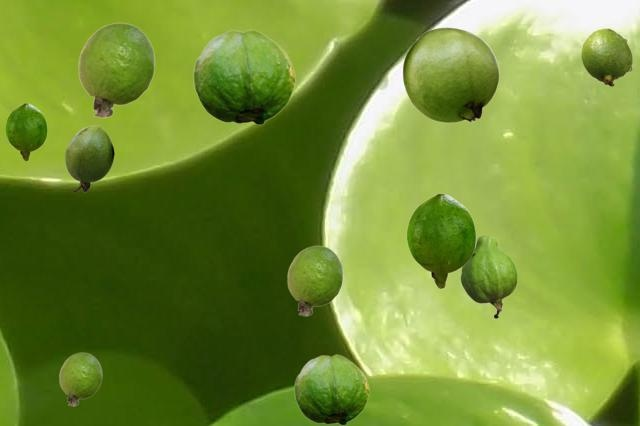guava: (193, 29, 294, 124), (402, 27, 498, 122), (78, 22, 154, 117), (406, 193, 475, 288), (294, 354, 368, 424), (460, 234, 516, 317), (287, 245, 342, 315), (65, 125, 113, 191), (581, 28, 631, 85), (5, 103, 46, 160), (59, 352, 101, 405)
